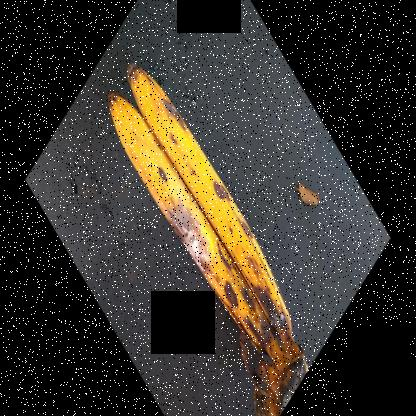ripe: (120, 46, 294, 320)
rotten: (101, 104, 274, 354)
